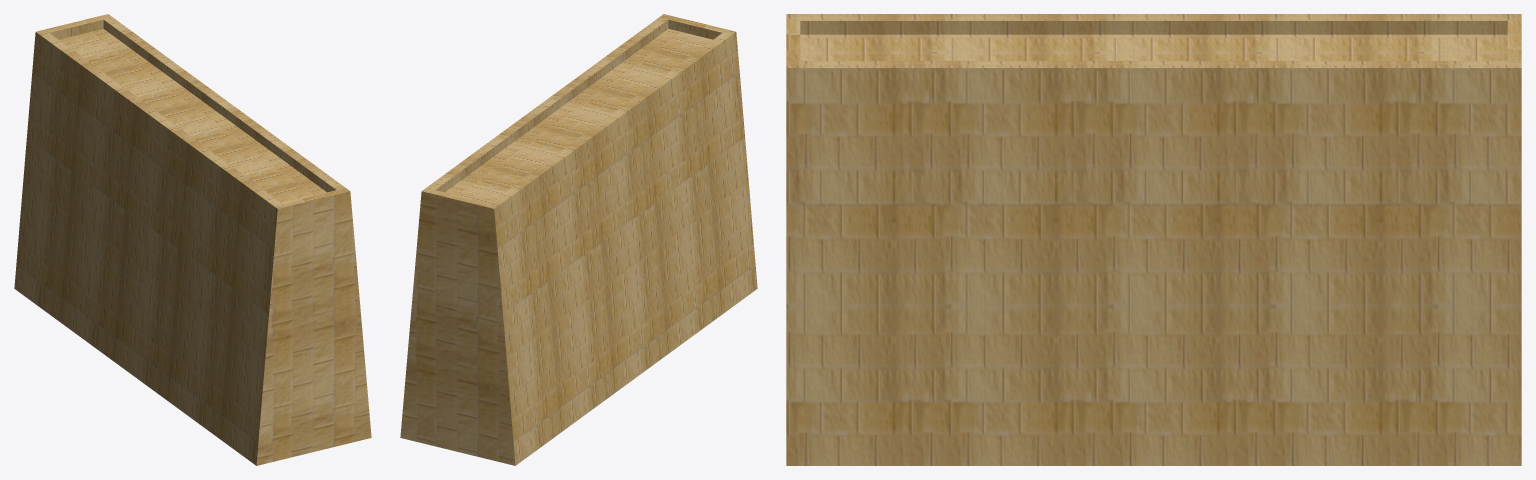
The model's file is EgyptianWall.obj.
The picture shows the model from 3 angles, left to right: view 1: azimuth 30°, elevation 25°; view 2: azimuth 150°, elevation 25°; view 3: azimuth 270°, elevation 25°; orthographic projection. The views are drawn at different scales.
Parts seen in each view (by area): view 1: Cube.001; view 2: Cube.001; view 3: Cube.001.
Boxes of the visible parts, x1,y1,x2,y2 form: Cube.001: [14, 14, 371, 465]; Cube.001: [400, 14, 757, 465]; Cube.001: [786, 14, 1521, 465].
Size of the model in its own units: 0.2802 by 0.5858 by 1.02.
1 material, 1 textured.
